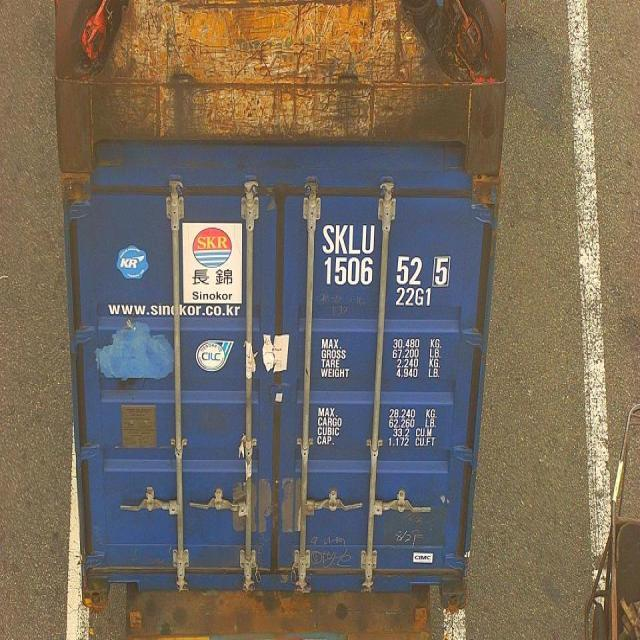ISO: (396, 286, 434, 308)
container_number: (322, 222, 452, 286)
